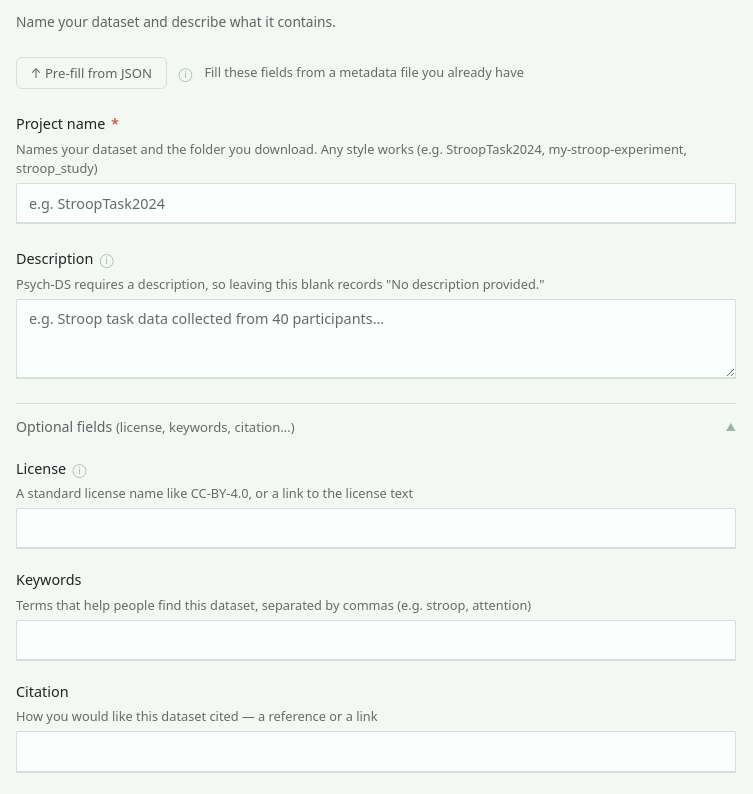
Test: ProjectInfo › help popovers › ⓘ next to License shows license help text when optional fields are open
This screenshot has width=753, height=794.
What coordinates should you click on to do the following:
click the button named "Help for License"
I would click on:
 (80, 469)
Its box is [73,462,86,475].
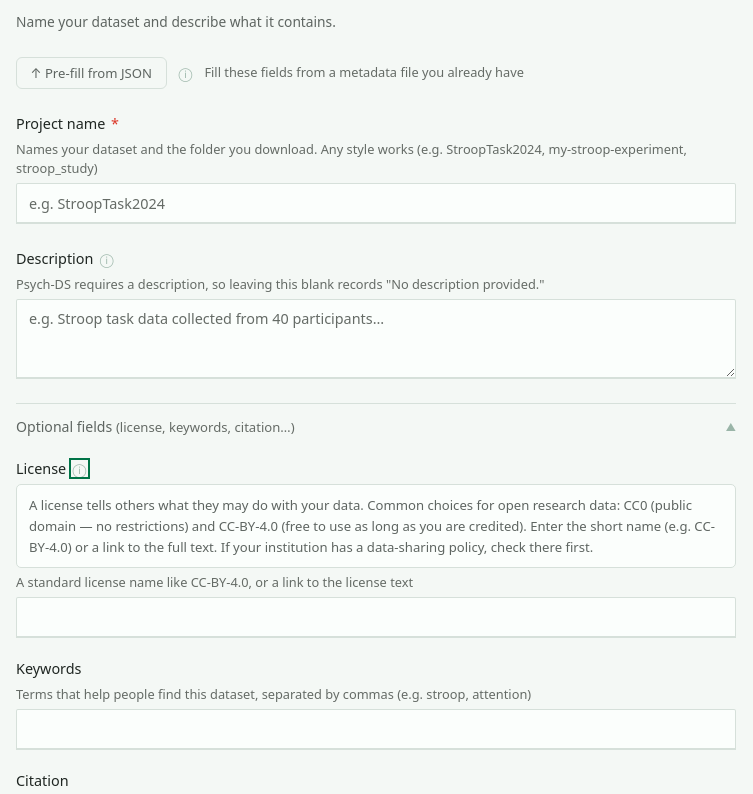
expect the text "CC0" is shown: met, box [29,496,715,556]
